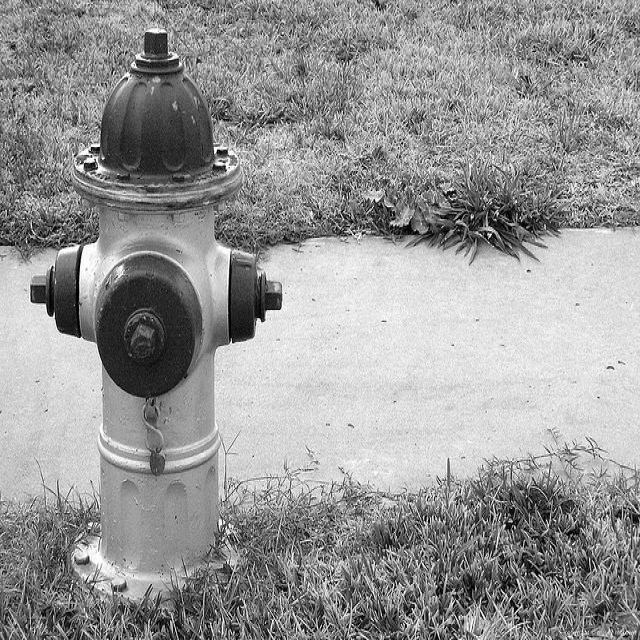fire_hydrant: (26, 29, 285, 606)
